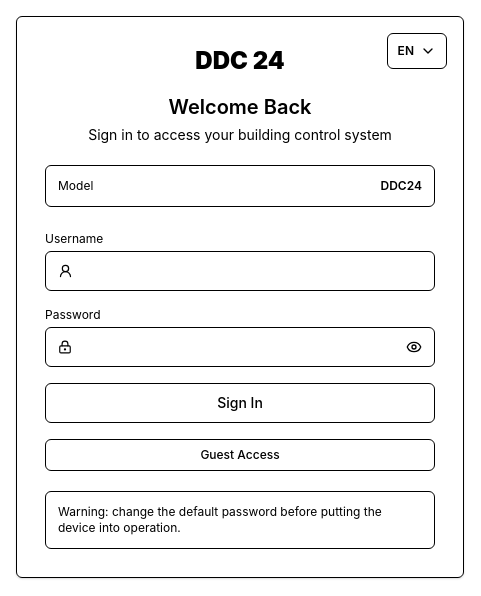
Test: LoginPage language switcher › lets the operator switch language before signing in
Expected: the heading "Welcome Back" is shown, [169, 95, 312, 119]
Click the button with aria-label "Toggle language" at (417, 51), box [387, 33, 447, 69]
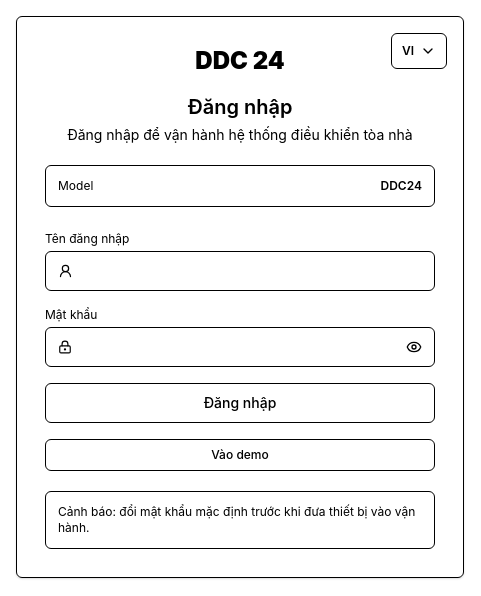
Result: the heading "Đăng nhập" is shown at [188, 95, 292, 119]
